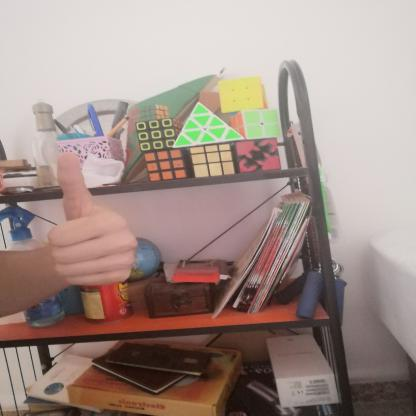ALIF: (35, 145, 147, 292)
